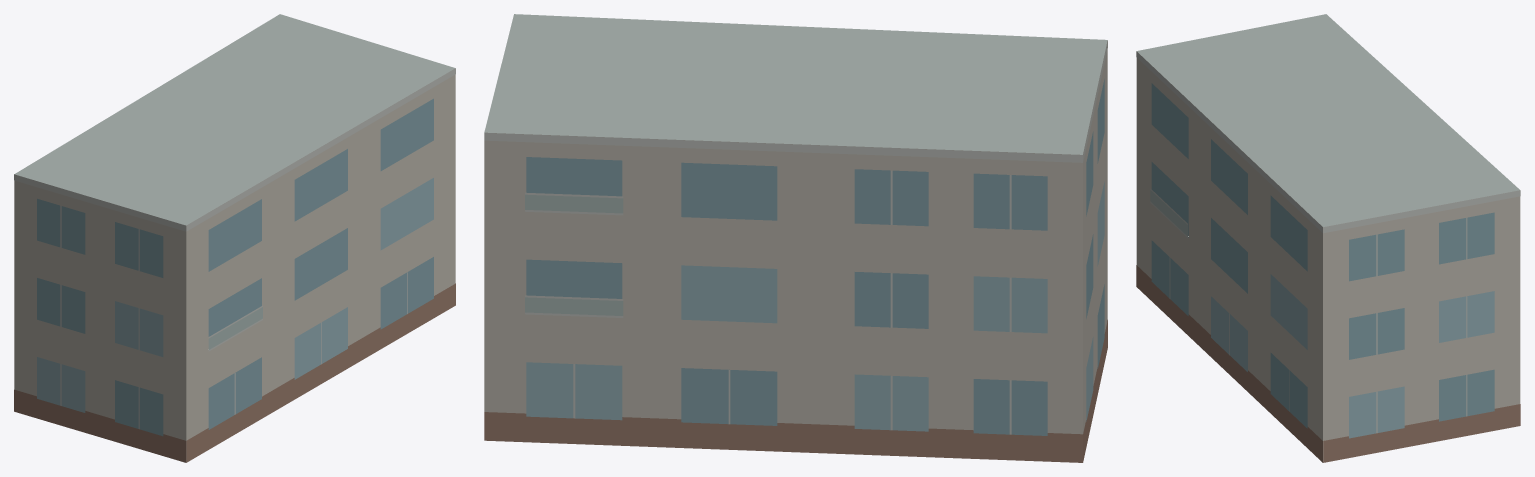
Rendered from survey-upis-32759380.glb.
The picture shows the model from 3 angles, left to right: view 1: azimuth 30°, elevation 25°; view 2: azimuth 150°, elevation 25°; view 3: azimuth 270°, elevation 25°; orthographic projection. The views are drawn at different scales.
Parts seen in each view (by area): view 1: survey-upis-32759380.tmp; view 2: survey-upis-32759380.tmp; view 3: survey-upis-32759380.tmp.
Boxes of the visible parts, x1,y1,x2,y2 form: survey-upis-32759380.tmp: [14, 14, 455, 462]; survey-upis-32759380.tmp: [484, 14, 1107, 462]; survey-upis-32759380.tmp: [1136, 14, 1520, 462].
Size of the model in its own units: 18.25 by 9.4 by 13.89.
